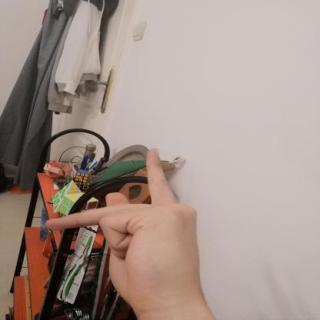DHAA: (32, 140, 216, 315)
